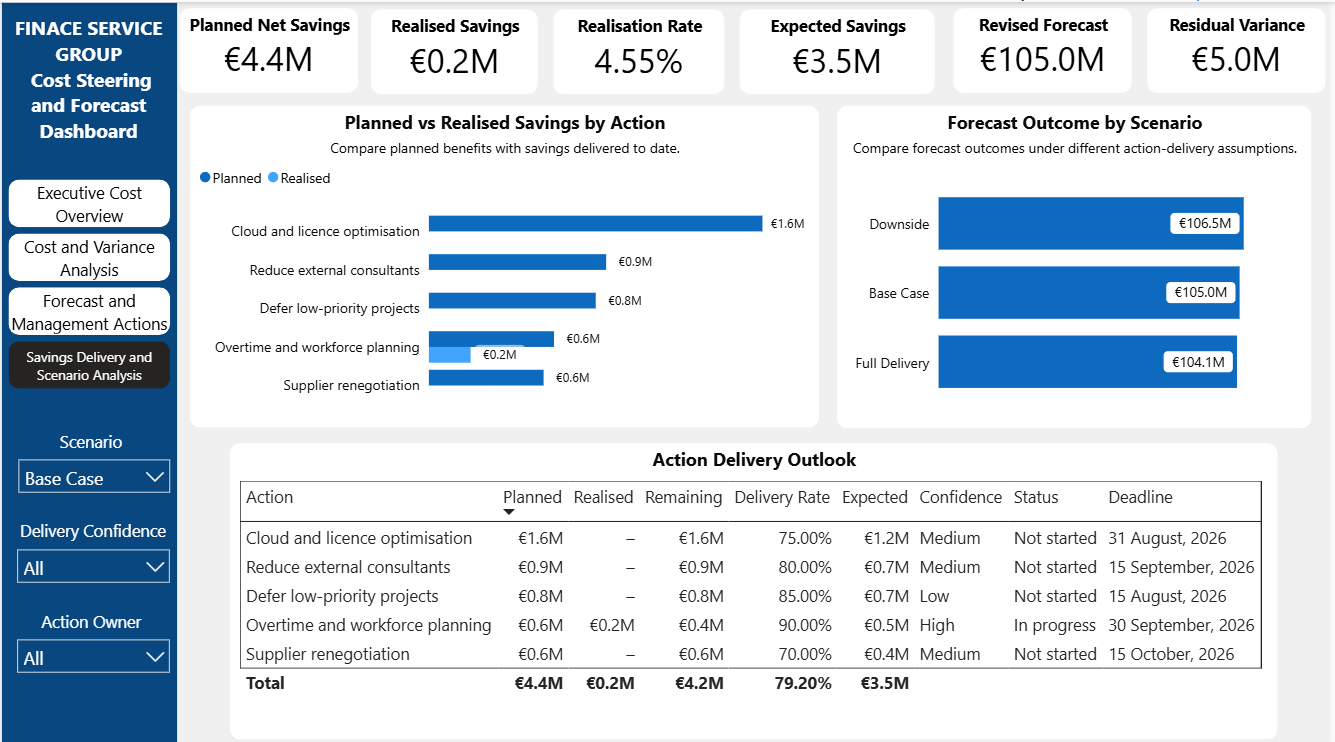

This screenshot's page, from the dashboard's own definition file:
{"tool":"powerbi","page":{"name":"Savings Delivery and Scenario Analysis","canvas":[1280,720],"ordinal":4},"visuals":[{"type":"shape","box":[0,0,171.2,720.1],"z":0},{"type":"card","title":"Planned Net Savings","fields":{"Values":["_Measures.Net Action Saving (€m)"]},"box":[172.4,6.5,171.9,81.2],"z":1000},{"type":"card","title":"Realised Savings","fields":{"Values":["_Measures.Realised Savings (€m)"]},"box":[357.3,6.8,161,81.2],"z":2000},{"type":"card","title":"Realisation Rate","fields":{"Values":["_Measures.Realisation Rate"]},"box":[533.2,6.8,165.1,81.2],"z":3000},{"type":"textbox","box":[8.4,405.8,157,40],"z":4000},{"type":"card","title":"Expected Savings","fields":{"Values":["_Measures.Selected Expected Savings (€m)"]},"box":[713.2,6.8,188.1,81.2],"z":5000},{"type":"slicer","fields":{"Values":["ScenarioDeliveryTable.Scenario"]},"box":[11.5,436.3,156.1,46.6],"z":6000},{"type":"card","title":"Revised Forecast","fields":{"Values":["_Measures.Selected Revised Forecast (€m)"]},"box":[919.5,6.5,171.9,81.2],"z":7000},{"type":"textbox","box":[8.6,492.3,160.8,40.2],"z":8000},{"type":"card","title":"Residual Variance","fields":{"Values":["_Measures.Selected Residual Variance (€m)"]},"box":[1106.2,6.5,171.9,81.2],"z":9000},{"type":"slicer","fields":{"Values":["ActionPlanTable.Delivery_Confidence"]},"box":[10.3,523.1,157.4,45.3],"z":10000},{"type":"clusteredBarChart","title":"Planned vs Realised Savings by Action","fields":{"Category":["ActionPlanTable.Action"],"Y":["_Measures.Net Action Saving (€m)","_Measures.Realised Savings for Chart (€m)"]},"box":[182.2,100.1,606.8,310.1],"z":11000},{"type":"textbox","box":[9,578.5,157.4,40.3],"z":12000},{"type":"slicer","fields":{"Values":["ActionPlanTable.Owner"]},"box":[10.3,610,157.4,45.3],"z":13000},{"type":"textbox","box":[0,7.2,169.4,147.8],"z":14000},{"type":"tableEx","title":"Action Delivery Outlook","fields":{"Values":["ActionPlanTable.Action","_Measures.Net Action Saving (€m)","_Measures.Realised Savings (€m)","_Measures.Remaining Savings (€m)","_Measures.Selected Delivery Rate","_Measures.Selected Expected Savings (€m)","ActionPlanTable.Delivery_Confidence","ActionPlanTable.Status","ActionPlanTable.Deadline"]},"box":[220.8,425.9,1011,285.9],"z":15000},{"type":"pageNavigator","box":[7.2,170.8,156.4,205.2],"z":16000},{"type":"clusteredBarChart","title":"Forecast Outcome by Scenario","fields":{"Y":["_Measures.Forecast Comparison (€m)"],"Category":["Scenario Comparison.Scenario"]},"box":[807.1,100.1,457.2,311.3],"z":17000}]}

Visuals, with their boxes on the page's 1280x720 design canvas (x1, y1, x2, y2). These are canvas units, not pixel positions in the 1335x742 screenshot, which may show the page scaled, cropped or inside an application window:
shape: {"left": 0, "top": 0, "right": 171, "bottom": 720}
"Planned Net Savings" card: {"left": 172, "top": 6, "right": 344, "bottom": 88}
"Realised Savings" card: {"left": 357, "top": 7, "right": 518, "bottom": 88}
"Realisation Rate" card: {"left": 533, "top": 7, "right": 698, "bottom": 88}
textbox: {"left": 8, "top": 406, "right": 165, "bottom": 446}
"Expected Savings" card: {"left": 713, "top": 7, "right": 901, "bottom": 88}
slicer - ScenarioDeliveryTable.Scenario: {"left": 12, "top": 436, "right": 168, "bottom": 483}
"Revised Forecast" card: {"left": 920, "top": 6, "right": 1091, "bottom": 88}
textbox: {"left": 9, "top": 492, "right": 169, "bottom": 532}
"Residual Variance" card: {"left": 1106, "top": 6, "right": 1278, "bottom": 88}
slicer - ActionPlanTable.Delivery_Confidence: {"left": 10, "top": 523, "right": 168, "bottom": 568}
"Planned vs Realised Savings by Action" clusteredBarChart: {"left": 182, "top": 100, "right": 789, "bottom": 410}
textbox: {"left": 9, "top": 578, "right": 166, "bottom": 619}
slicer - ActionPlanTable.Owner: {"left": 10, "top": 610, "right": 168, "bottom": 655}
textbox: {"left": 0, "top": 7, "right": 169, "bottom": 155}
"Action Delivery Outlook" tableEx: {"left": 221, "top": 426, "right": 1232, "bottom": 712}
pageNavigator: {"left": 7, "top": 171, "right": 164, "bottom": 376}
"Forecast Outcome by Scenario" clusteredBarChart: {"left": 807, "top": 100, "right": 1264, "bottom": 411}
